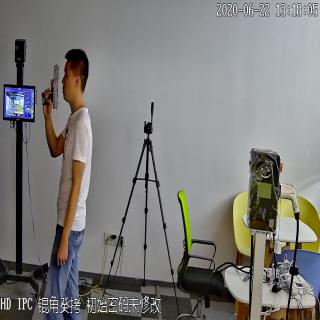gun: (41, 62, 59, 108)
